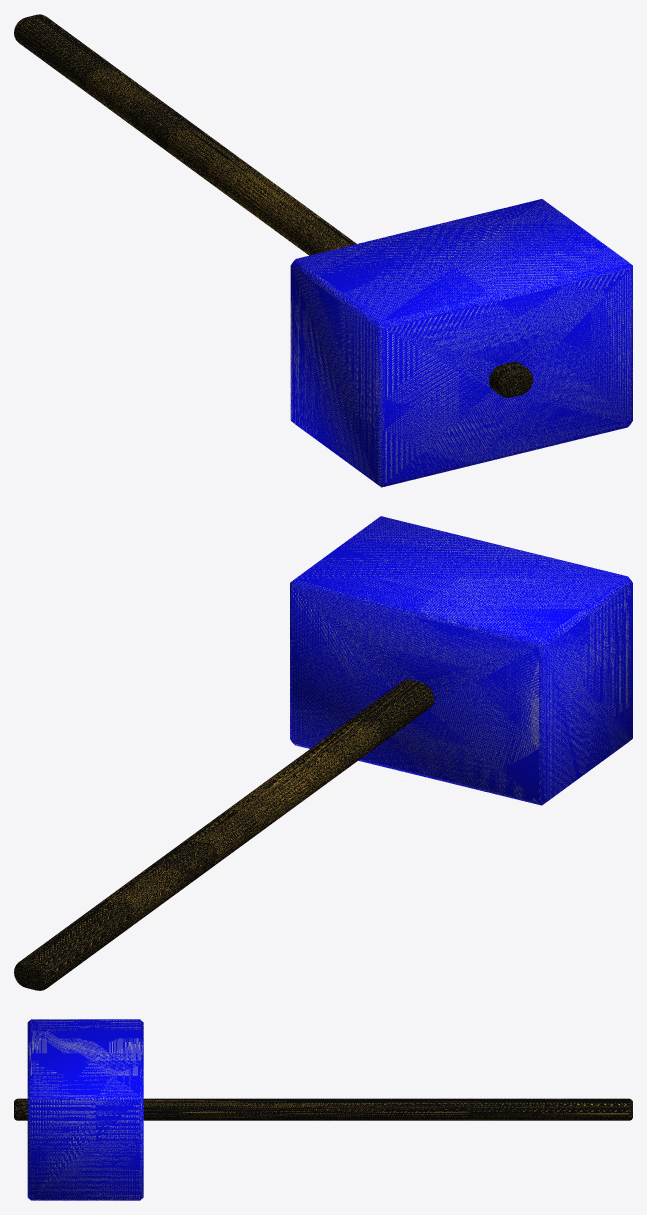
File: mallet_01_origin_gt_5.dae
The picture shows the model from 3 angles, top to bottom: view 1: azimuth 30°, elevation 25°; view 2: azimuth 150°, elevation 25°; view 3: azimuth 270°, elevation 25°; orthographic projection. The views are drawn at different scales.
Parts seen in each view (by area): view 1: Hammer (×4); view 2: Hammer (×3); view 3: Hammer (×4).
Boxes of the visible parts, x1,y1,x2,y2 form: Hammer (×4): [14, 14, 632, 487]; Hammer (×3): [14, 516, 632, 990]; Hammer (×4): [14, 1019, 632, 1200].
Bounding box in the file's own units: 3.25 × 10.69 × 2.01.
